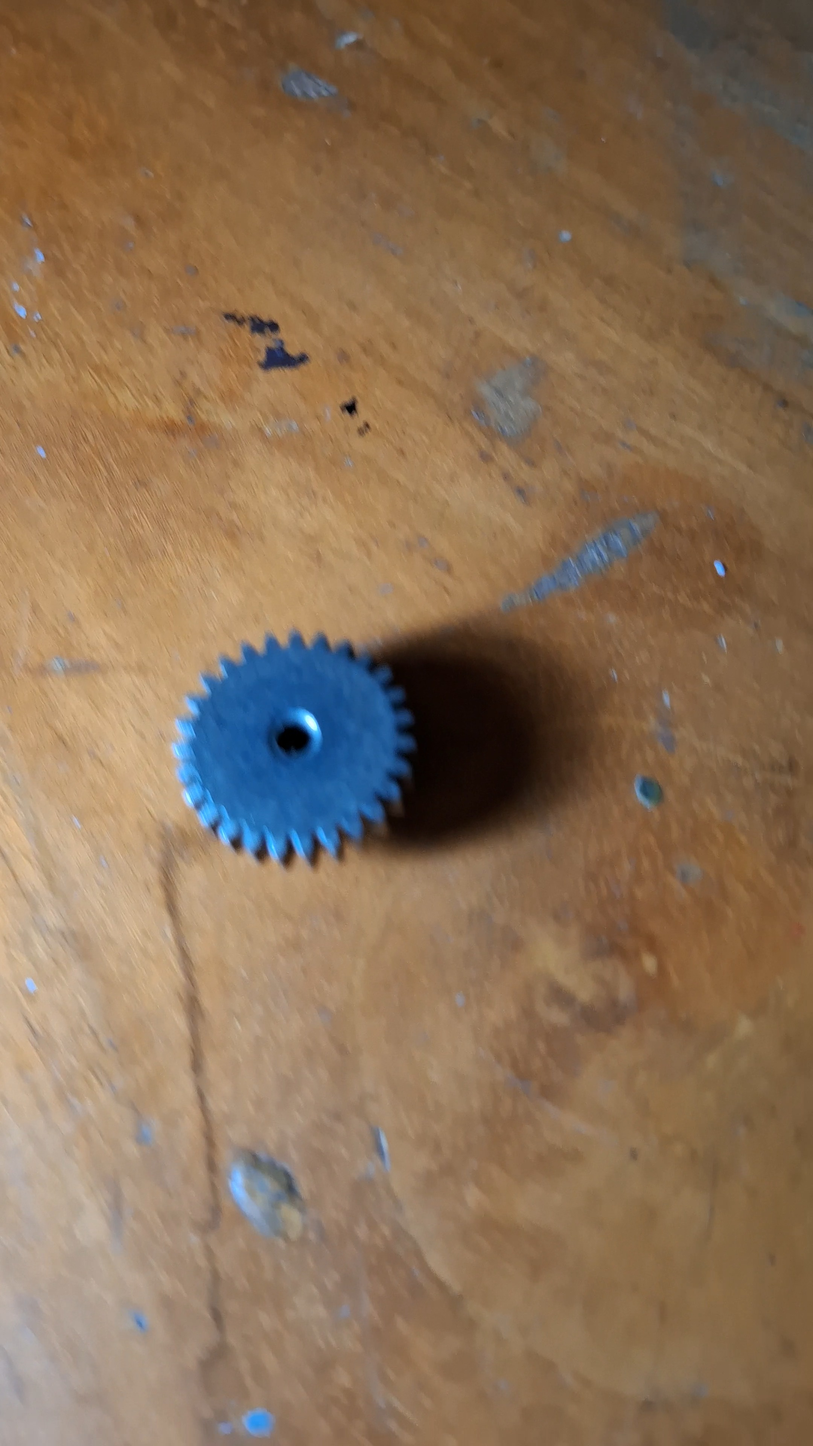spur gear: (174, 632, 414, 860)
